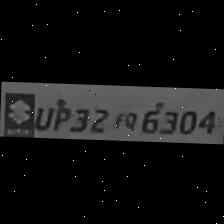0: (176, 106, 196, 134)
2: (86, 103, 110, 132)
3: (69, 103, 89, 132), (160, 104, 178, 134)
4: (196, 106, 216, 134)
6: (138, 104, 160, 133)
P: (50, 101, 70, 131)
U: (31, 100, 51, 128)
